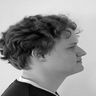ear: (27, 38, 53, 67)
